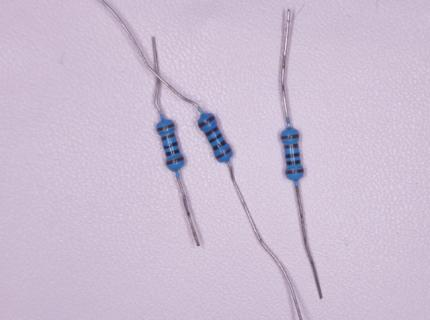Black band: (213, 140, 226, 151), (209, 133, 222, 143), (166, 149, 180, 157), (164, 142, 179, 149), (286, 160, 301, 165), (285, 153, 299, 158)
Brown band: (198, 115, 215, 128), (216, 148, 231, 159), (166, 156, 184, 165), (156, 123, 174, 131), (206, 126, 219, 136), (161, 133, 175, 141), (286, 168, 304, 174), (281, 134, 298, 140), (284, 144, 299, 149)
